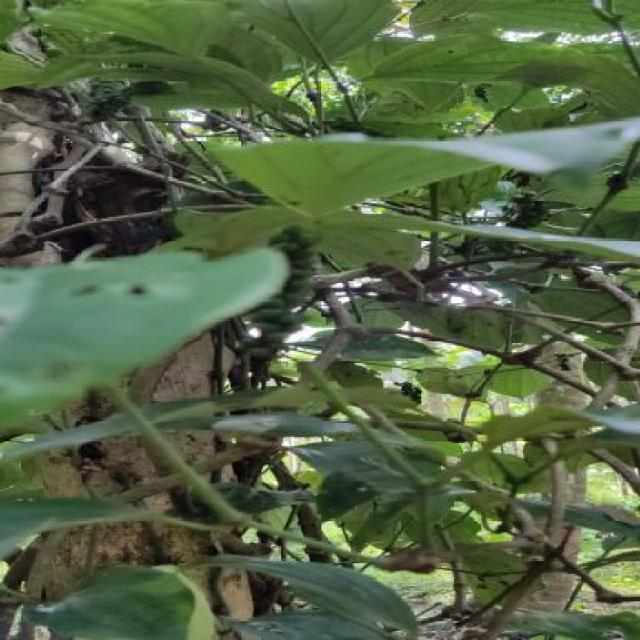UNRIPE: (242, 226, 316, 360), (491, 197, 551, 255)
